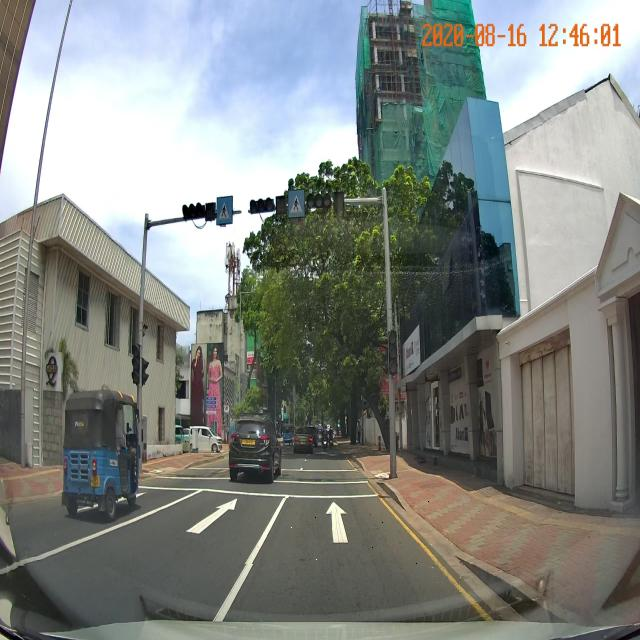diamond: (244, 498, 440, 564)
